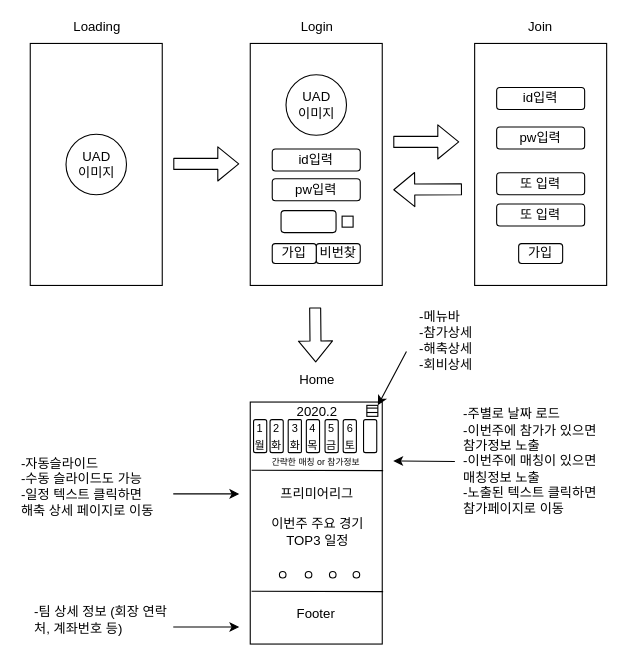
Some shapes in this 626 by 663 pixel diagram are drawn without their labels. Each missing label, with the centre of its shape:
7 일: the point at 369,436
로그인: the point at 308,221
